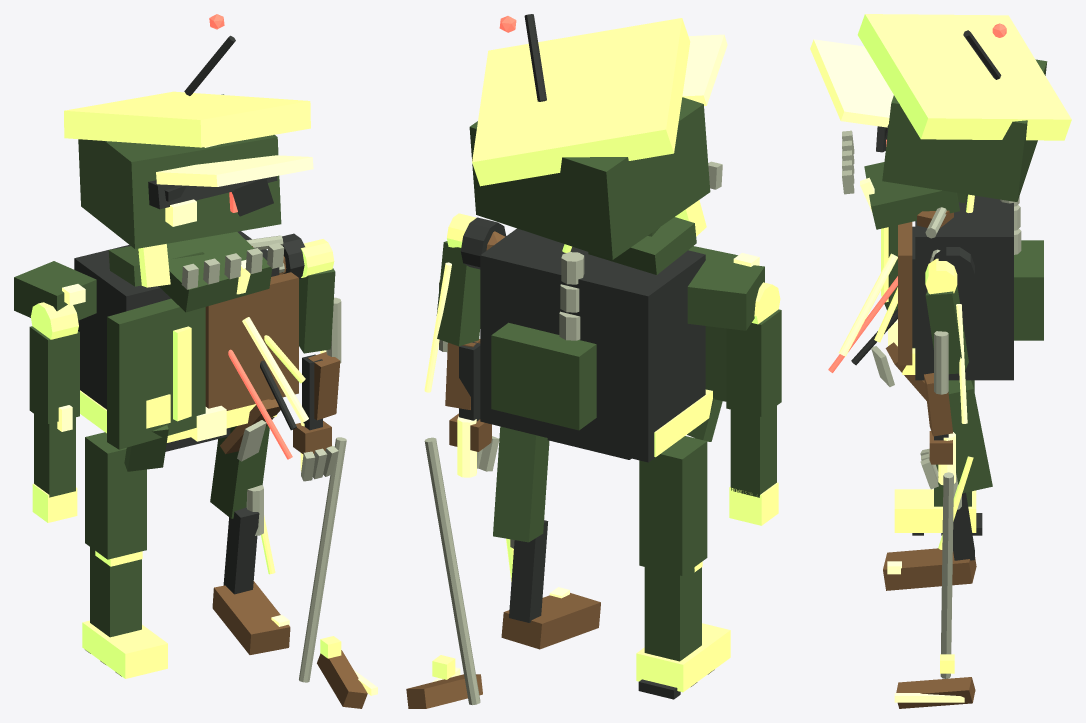
File: walker.glb
3 views of the same model, side by side, from view 1: azimuth 30°, elevation 25°; view 2: azimuth 150°, elevation 25°; view 3: azimuth 270°, elevation 25° (orthographic). The views are drawn at different scales.
Parts seen in each view (by area): view 1: Skull, Cap, PoloPlate, CavityRim, Thigh.001, Chassis, Chin, Upper.001, Shin, DragFoot, Brim, Foot (+32 smaller); view 2: Chassis, Cap, Skull, BackHump, Thigh.001, Thigh, Upper.001, Shin, Pauldron, Lower, DragFoot, Shaft (+20 smaller); view 3: Cap, Chassis, Skull, Brim, Chin, BackHump, Thigh, DragFoot, Foot, CavityRim, Shaft, Upper (+17 smaller).
Boxes of the visible parts, x1,y1,x2,y2 form: Skull: [78, 94, 281, 248]; Cap: [64, 91, 310, 147]; PoloPlate: [107, 298, 205, 449]; CavityRim: [205, 272, 298, 410]; Thigh.001: [85, 432, 146, 559]; Chassis: [74, 231, 279, 409]; Chin: [138, 232, 272, 312]; Upper.001: [29, 326, 79, 423]; Shin: [90, 547, 141, 637]; DragFoot: [212, 581, 290, 654]; Brim: [156, 155, 313, 186]; Foot: [82, 620, 167, 678]; Chassis: [480, 228, 705, 462]; Cap: [472, 18, 690, 186]; Skull: [469, 97, 710, 259]; BackHump: [491, 322, 596, 430]; Thigh.001: [639, 436, 707, 575]; Thigh: [493, 426, 549, 542]; Upper.001: [726, 309, 781, 416]; Shin: [644, 567, 701, 661]; Pauldron: [687, 259, 764, 330]; Lower: [730, 406, 776, 497]; DragFoot: [501, 593, 600, 649]; Shaft: [424, 437, 480, 705]; Cap: [857, 14, 1071, 140]; Chassis: [915, 194, 1013, 380]; Skull: [882, 59, 1047, 201]; Brim: [810, 39, 893, 127]; Chin: [864, 162, 959, 229]; BackHump: [1014, 240, 1043, 340]; Thigh: [948, 380, 992, 493]; DragFoot: [883, 548, 976, 590]; Foot: [894, 489, 976, 532]; CavityRim: [898, 222, 912, 365]; Shaft: [940, 472, 953, 678]; Upper: [925, 285, 968, 374].
Size of the model in its own units: 1.19 by 2.43 by 0.8973.
